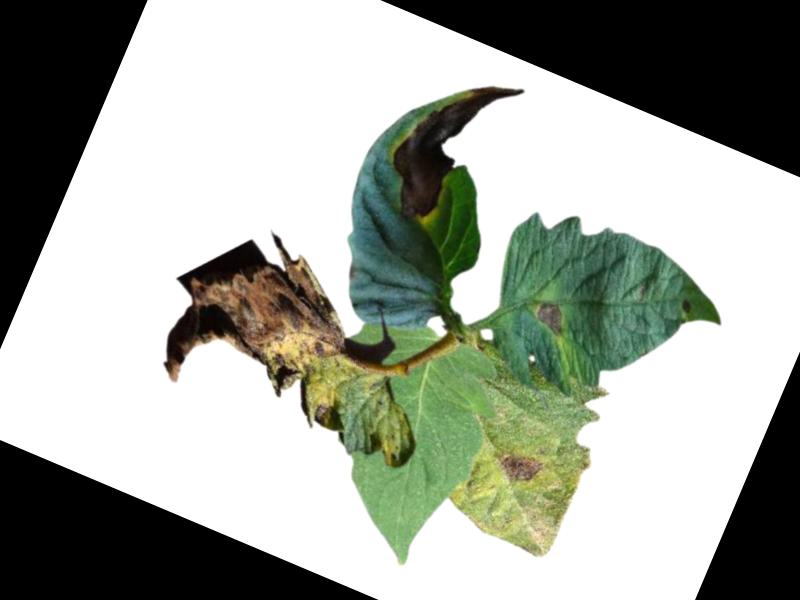Early_blight: (146, 218, 398, 448), (365, 49, 525, 241), (493, 445, 545, 492), (528, 297, 570, 339), (677, 296, 694, 315)
healthy: (274, 300, 516, 575)
